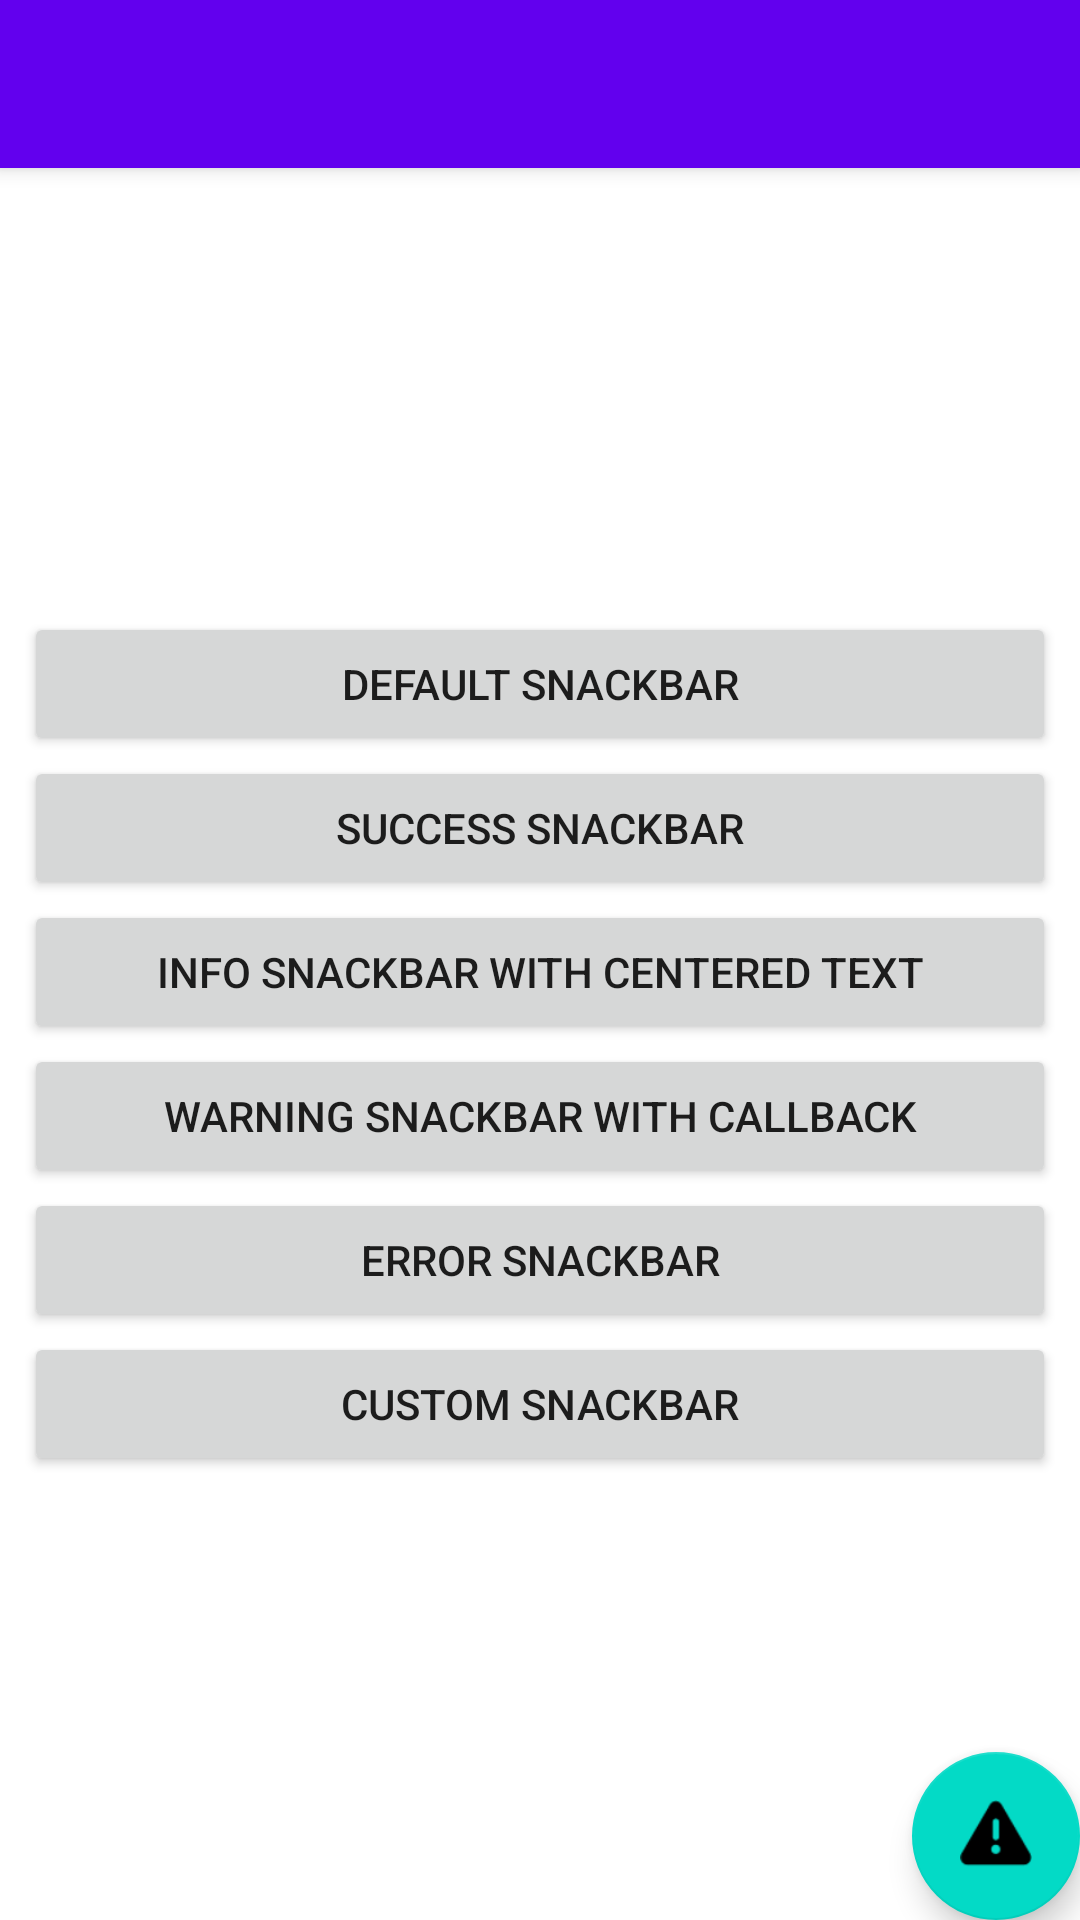

Screen size 1080 x 1920. Icon name, then its center in pixels as (x,y):
alert: (996,1836)
